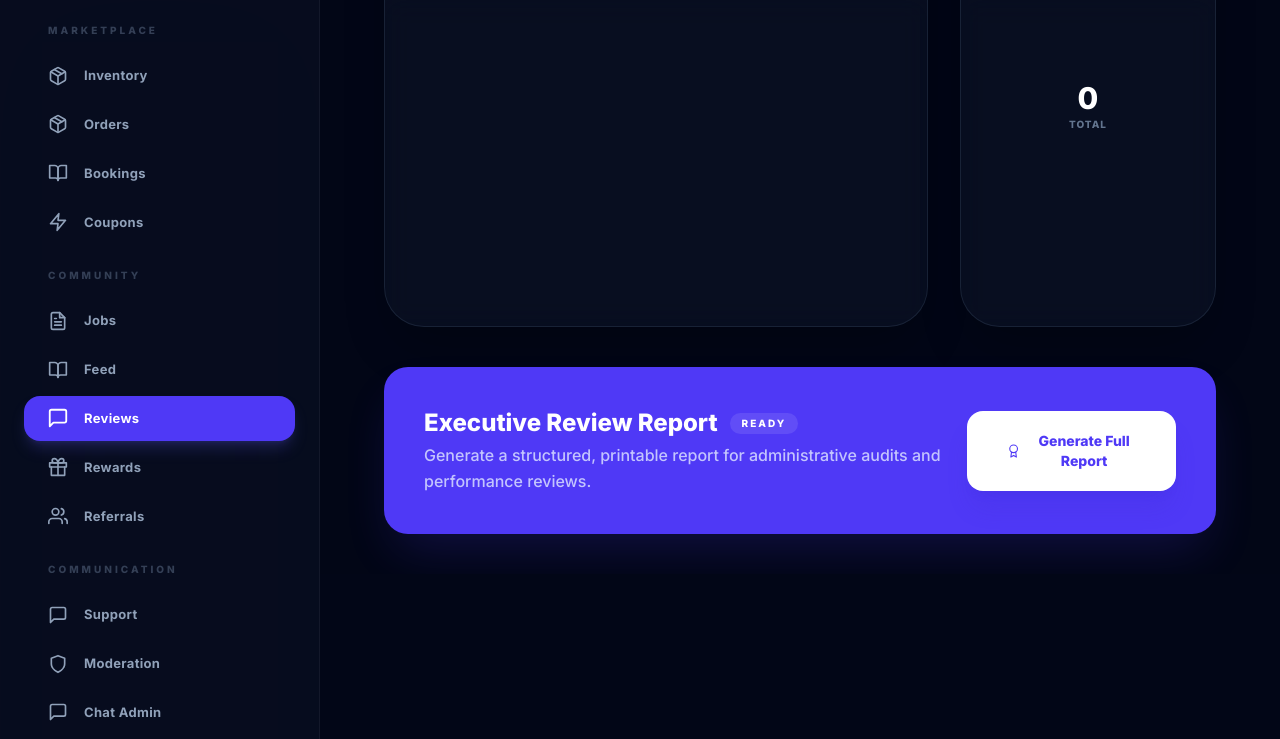
Test: AdminReviewAnalytics Component › displays correct insights when there is no data
The width and height of the screenshot is (1280, 739).
(page scrolled)
What coordinates should you click on to do the following:
click the button "Generate Full Report"
I would click on:
 (1072, 451)
Its box is [967, 411, 1176, 491].
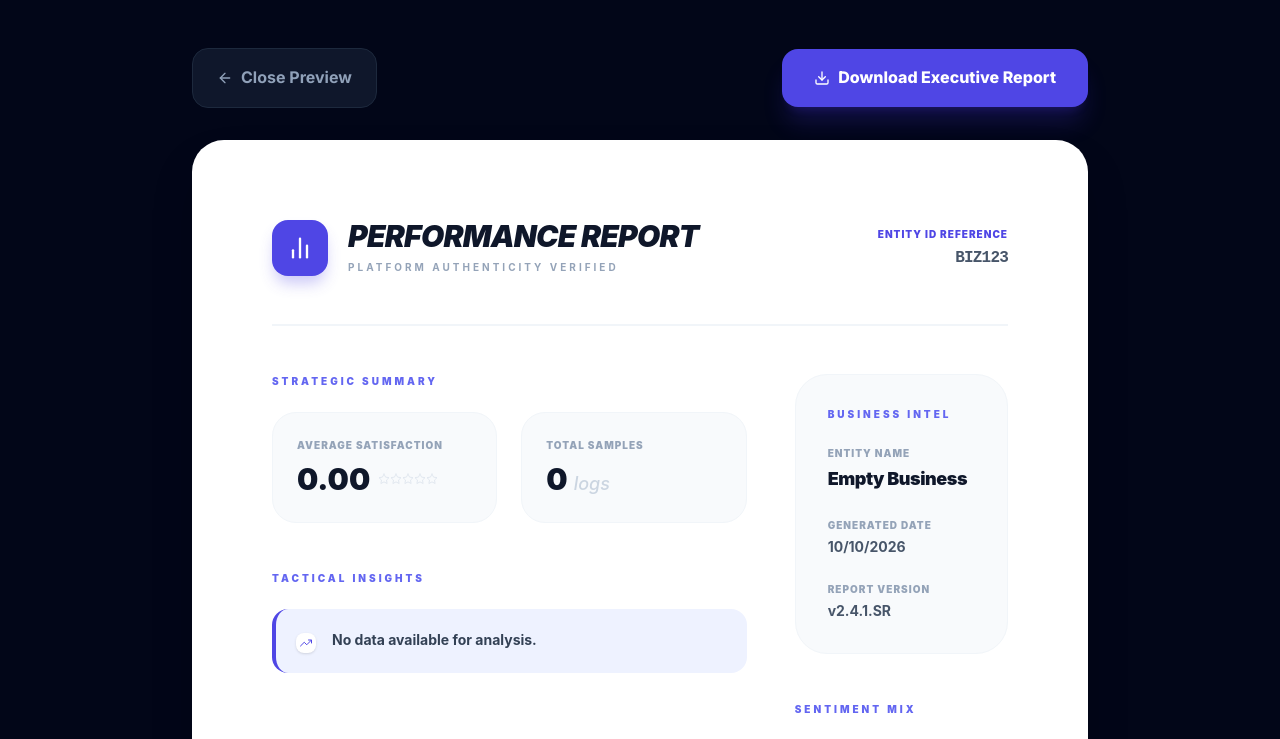
expect the text "No data available for analysis." is shown: met, box [332, 629, 537, 651]
